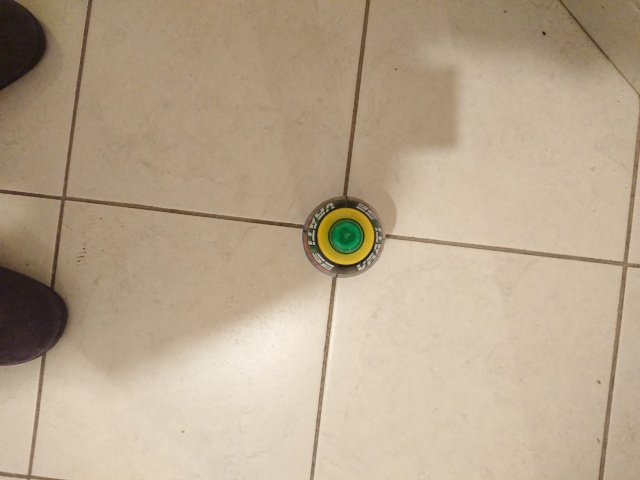Vindi Iso Sport Forest Strawberries 500mL: (301, 194, 387, 280)
